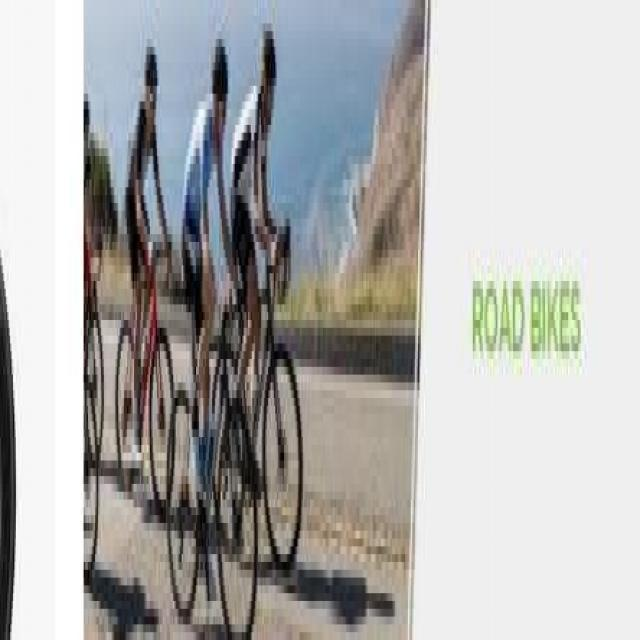bicycle: (168, 266, 261, 640), (227, 235, 304, 594), (118, 235, 177, 516), (86, 243, 105, 587)
